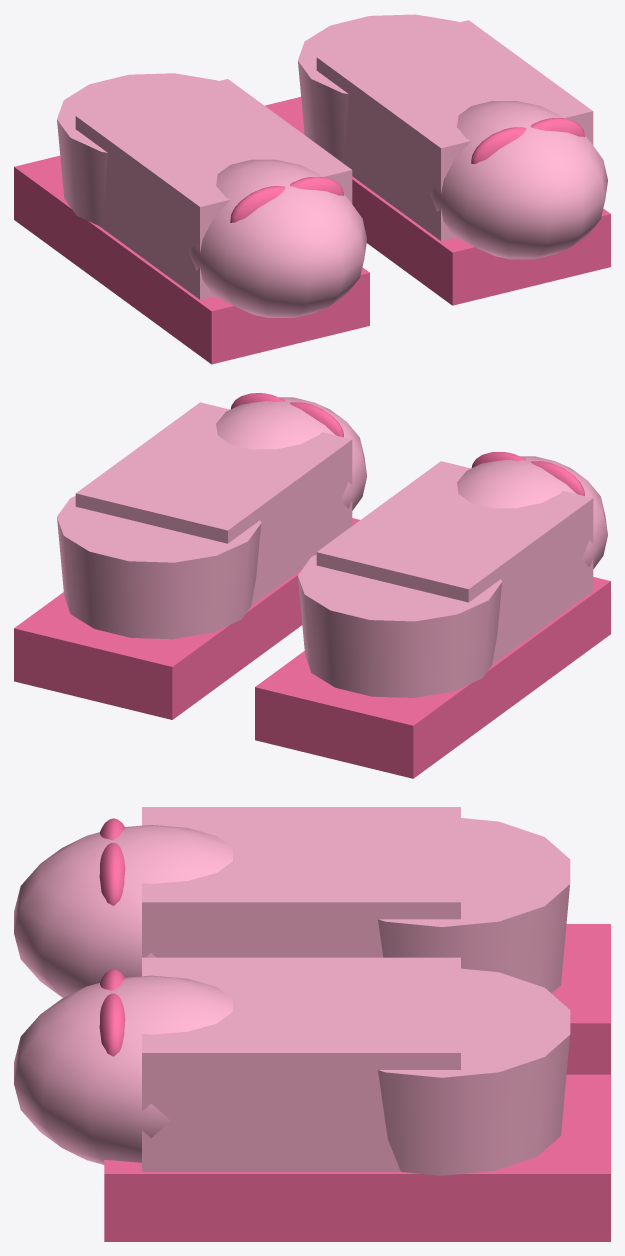
Rendered from shoes_cute_1.glb.
The picture shows the model from 3 angles, top to bottom: view 1: azimuth 30°, elevation 25°; view 2: azimuth 150°, elevation 25°; view 3: azimuth 270°, elevation 25°; orthographic projection. The views are drawn at different scales.
Size of the model in its own units: 0.33 by 0.12 by 0.3181.
